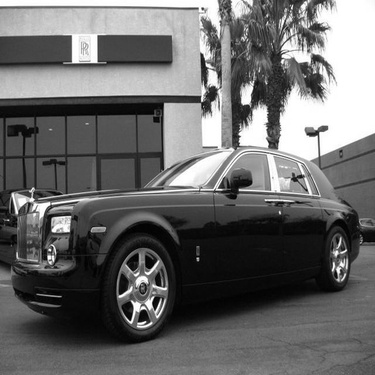car: (2, 146, 367, 347), (1, 176, 75, 267), (344, 204, 374, 248)
